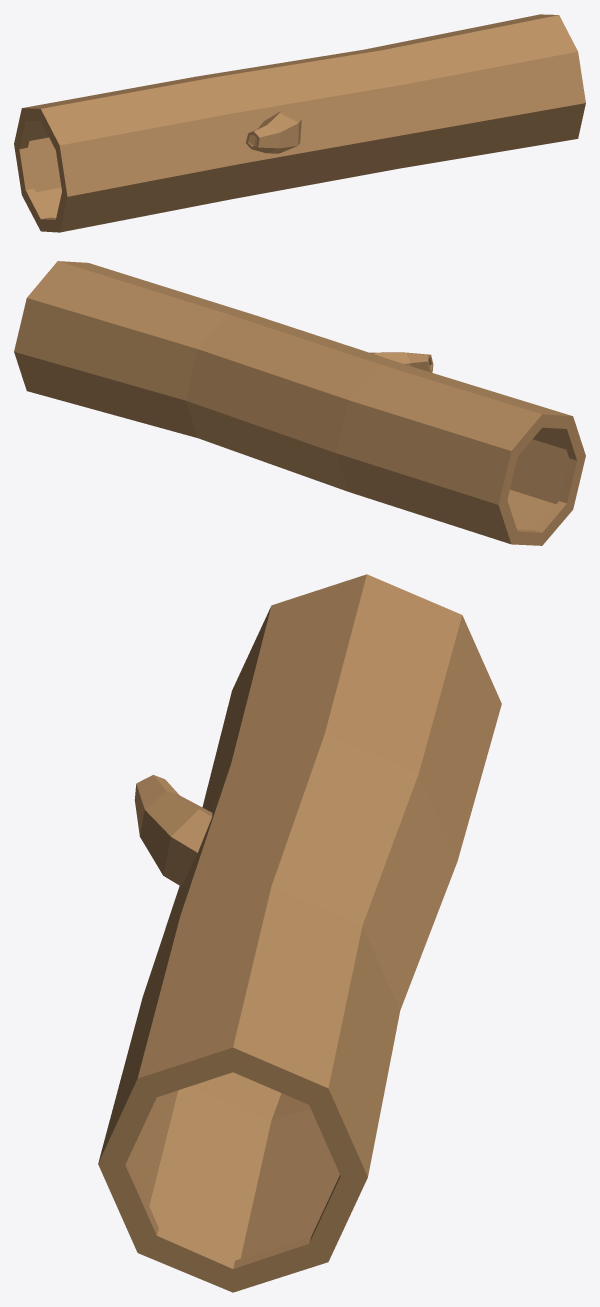
File: Ceppo.fbx
3 views of the same model, one above another, from view 1: azimuth 30°, elevation 25°; view 2: azimuth 150°, elevation 25°; view 3: azimuth 270°, elevation 25° (orthographic). The views are drawn at different scales.
Parts seen in each view (by area): view 1: Circle.027; view 2: Circle.027; view 3: Circle.027.
Boxes of the visible parts, left/top/right/bottom form: Circle.027: left=14, top=14, right=585, bottom=232; Circle.027: left=14, top=261, right=585, bottom=545; Circle.027: left=98, top=574, right=501, bottom=1292.
Bounding box in the file's own units: 74.92 × 17.59 × 26.26.
